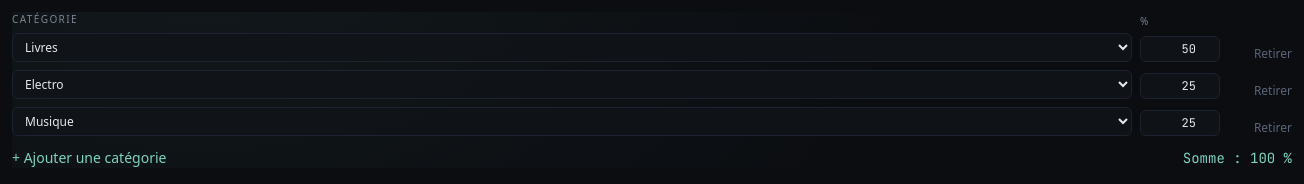
Test case: RuleSplitEditor › removes a row when clicking Retirer, down to the 2-row minimum
expect the number of number fields is 3: met, box left=1140, top=36, right=1220, bottom=62; left=1140, top=73, right=1220, bottom=99; left=1140, top=110, right=1220, bottom=136
Click the 1st button "Retirer" at (1273, 54), box left=1254, top=46, right=1292, bottom=62
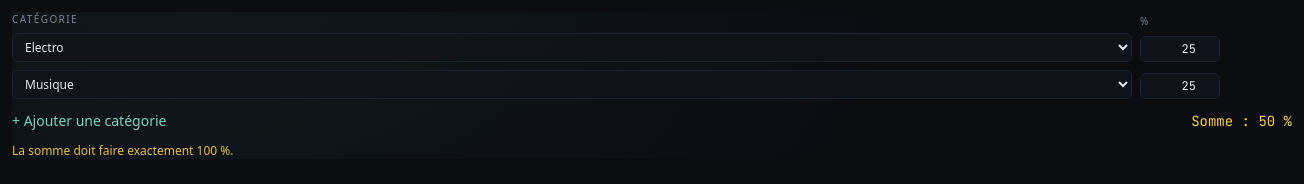
expect the number of number fields is 2: met, box left=1140, top=36, right=1220, bottom=62; left=1140, top=73, right=1220, bottom=99
expect no buttons "Retirer" are shown: met
